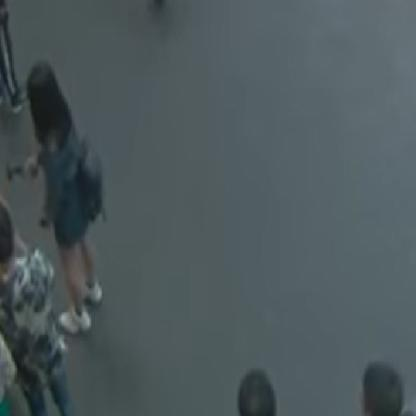Human Body: (0, 53, 114, 348)
